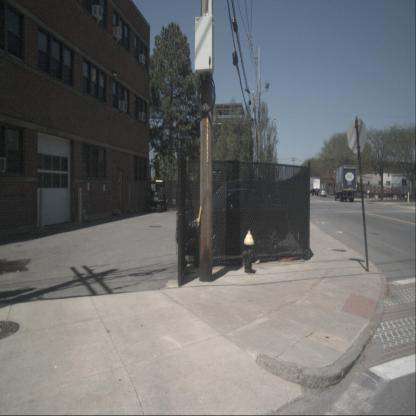vehicle-car: (188, 177, 292, 261), (174, 187, 288, 261), (318, 189, 327, 198)
vehicle-truck: (334, 165, 358, 202), (144, 179, 168, 212), (309, 177, 320, 196)
